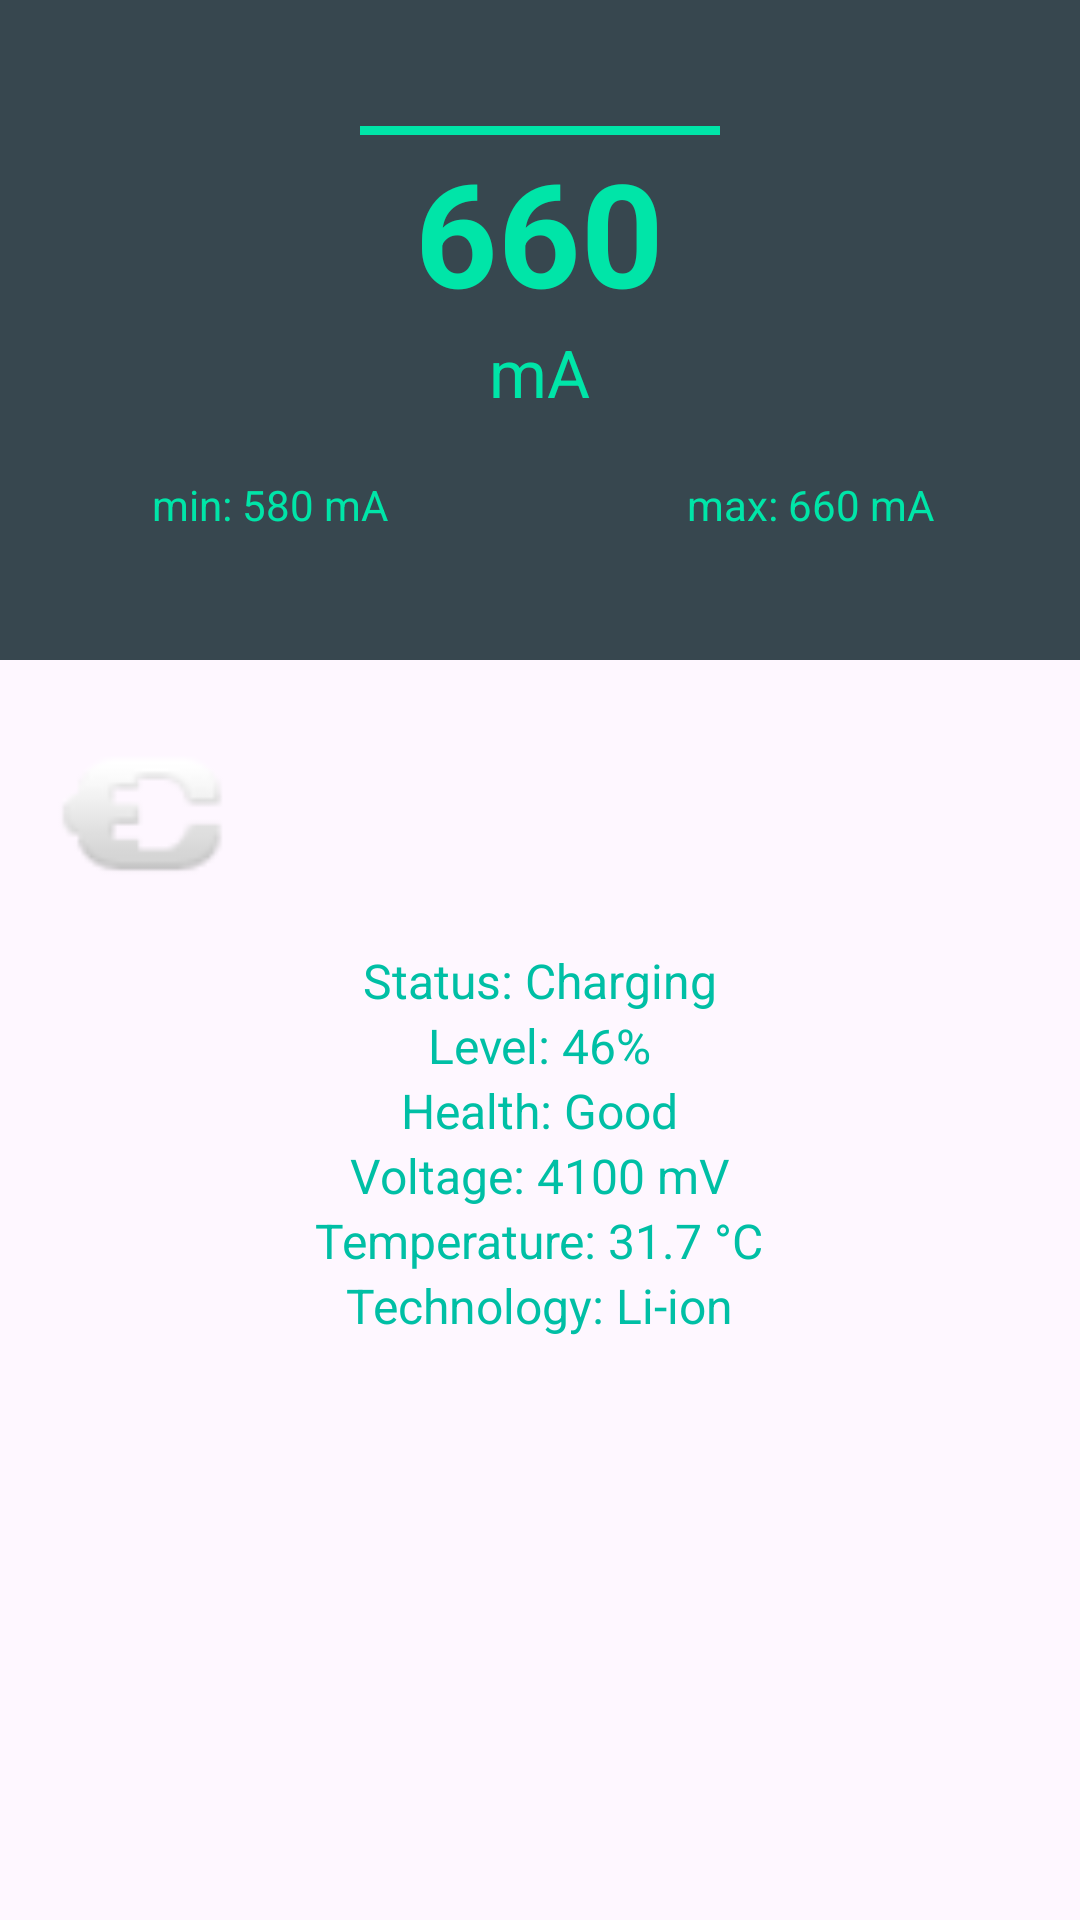

Icon bounding boxes for this 1080 x 1920 phone screenshot, format (x1, y1, x2, y2):
lock idle charging: (65, 784, 220, 870)
